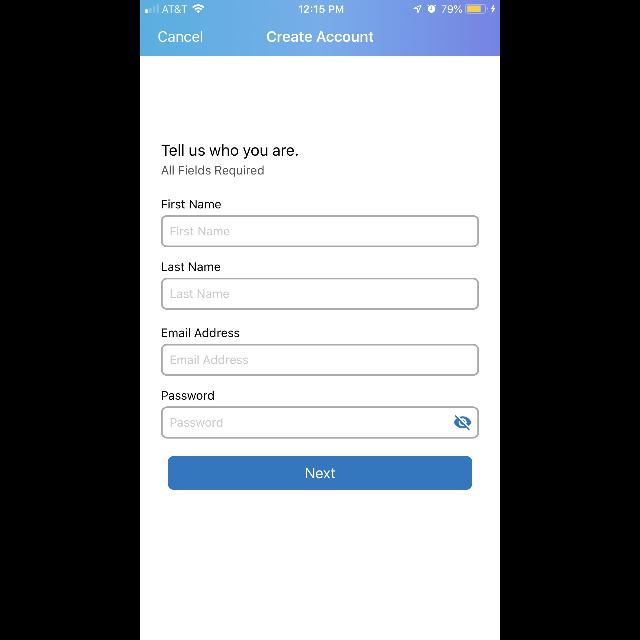icon: (454, 416, 472, 430)
input: (161, 215, 479, 247), (161, 278, 479, 310), (161, 344, 479, 376), (161, 407, 479, 439)
text: (162, 144, 298, 160), (162, 166, 264, 177), (267, 32, 373, 42), (162, 328, 240, 338), (172, 356, 248, 364), (162, 262, 220, 272), (170, 227, 230, 236), (158, 31, 202, 43), (171, 418, 223, 427), (162, 392, 214, 401), (171, 290, 229, 298), (162, 200, 220, 208)
textbutton: (168, 456, 472, 490)
uppertaskbar: (140, 0, 500, 14)
